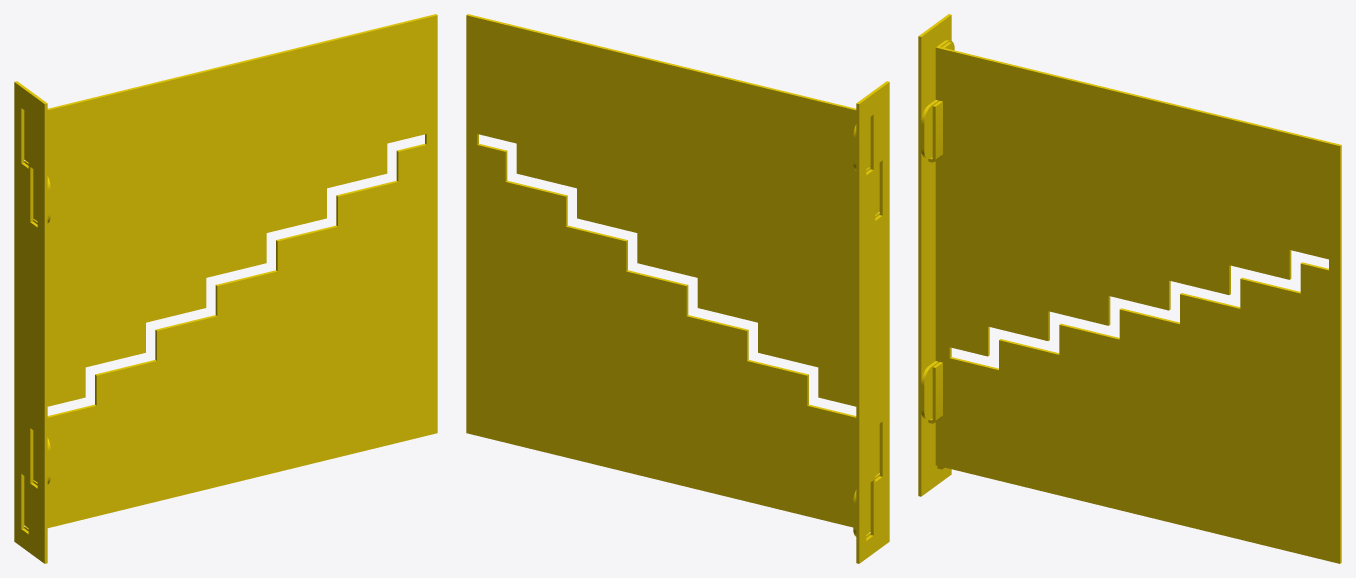
3 views of the same model, side by side, from view 1: azimuth 30°, elevation 25°; view 2: azimuth 150°, elevation 25°; view 3: azimuth 330°, elevation 25° (orthographic).
Parts seen in each view (by area): view 1: SketchUp.001, group_0, group_1, SketchUp; view 2: SketchUp.001, group_0, group_1, SketchUp; view 3: SketchUp.001, group_0, group_1, SketchUp, group_0.004, group_0.003.
Part boxes in pixels (box(x1,y1,x2,y2)): SketchUp.001: box(47, 14, 437, 527); group_0: box(14, 81, 47, 563); group_1: box(24, 110, 50, 527); SketchUp: box(47, 134, 426, 417); SketchUp.001: box(466, 14, 856, 527); group_0: box(856, 81, 889, 563); group_1: box(853, 117, 879, 536); SketchUp: box(477, 134, 856, 417); SketchUp.001: box(938, 47, 1341, 563); group_0: box(918, 14, 951, 496); group_1: box(921, 40, 954, 465); SketchUp: box(949, 250, 1328, 369); group_0.004: box(928, 101, 942, 162); group_0.003: box(928, 362, 942, 423).
Bounding box in the file's own units: 0.4081 × 0.4401 × 0.053.
